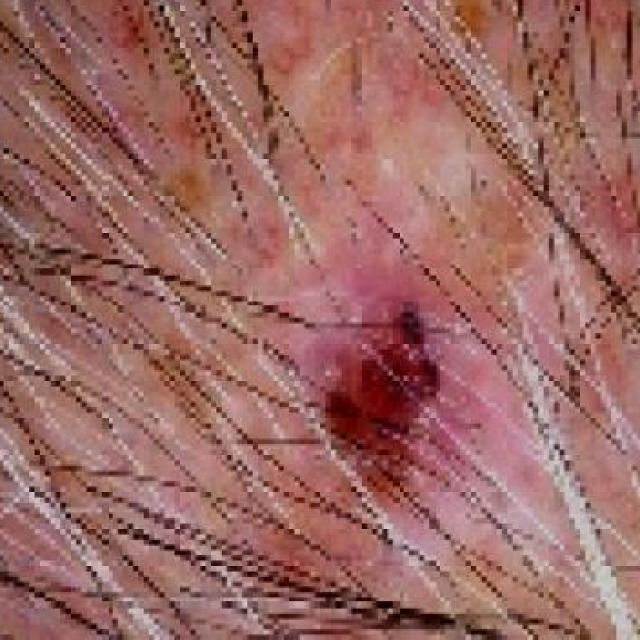BCC: (276, 211, 618, 606)
